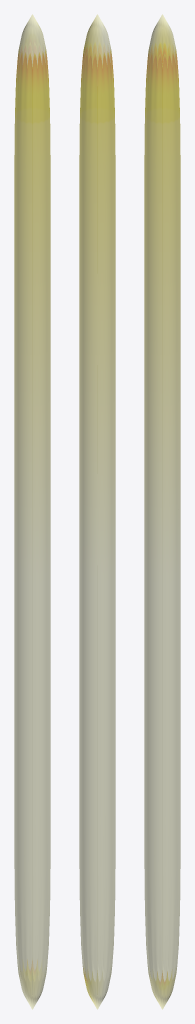
File: laser.FBX
3 views of the same model, side by side, from view 1: azimuth 90°, elevation 25°; view 2: azimuth 210°, elevation 25°; view 3: azimuth 270°, elevation 25° (orthographic).
Parts seen in each view (by area): view 1: Cylinder001; view 2: Cylinder001; view 3: Cylinder001.
Boxes of the visible parts, left/top/right/bottom form: Cylinder001: left=14, top=14, right=50, bottom=1009; Cylinder001: left=79, top=14, right=115, bottom=1009; Cylinder001: left=144, top=14, right=180, bottom=1009.
Size of the model in its own units: 3.86 by 117 by 3.86.
